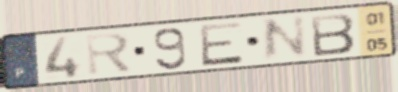4: (41, 34, 86, 81)
9: (152, 26, 188, 71)
B: (308, 12, 358, 59)
E: (197, 19, 246, 68)
N: (260, 13, 310, 65)
R: (83, 30, 135, 79)
